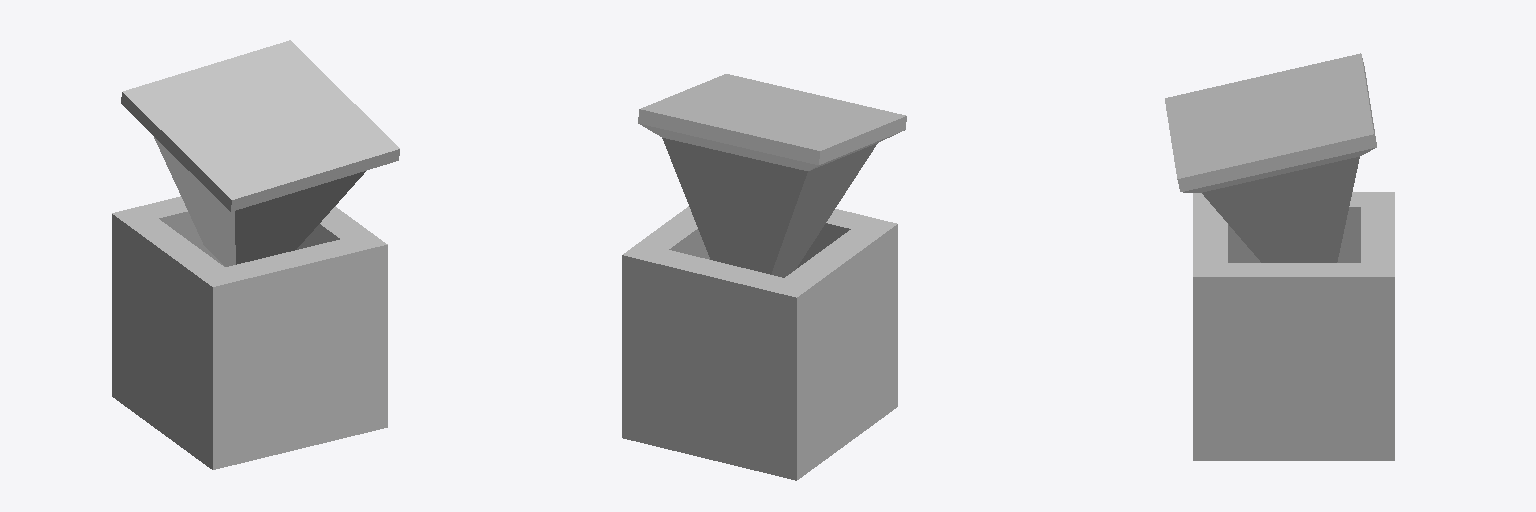
File: AnimatedBox_000141.obj
3 renders of one model, left to right at view 1: azimuth 30°, elevation 25°; view 2: azimuth 150°, elevation 25°; view 3: azimuth 270°, elevation 25°, orthographic.
Parts seen in each view (by area): view 1: Cube, Cube.001; view 2: Cube, Cube.001; view 3: Cube, Cube.001.
Boxes of the visible parts, x1,y1,x2,y2 form: Cube: [112, 196, 387, 469]; Cube.001: [121, 40, 399, 266]; Cube: [622, 206, 897, 480]; Cube.001: [638, 74, 906, 277]; Cube: [1193, 192, 1394, 460]; Cube.001: [1165, 53, 1376, 262].
Size of the model in its own units: 2.13 by 3.53 by 2.29.